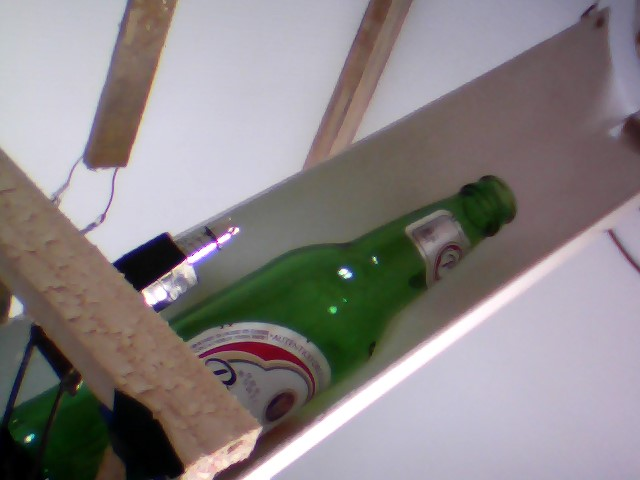vidrio: (185, 174, 528, 436)
